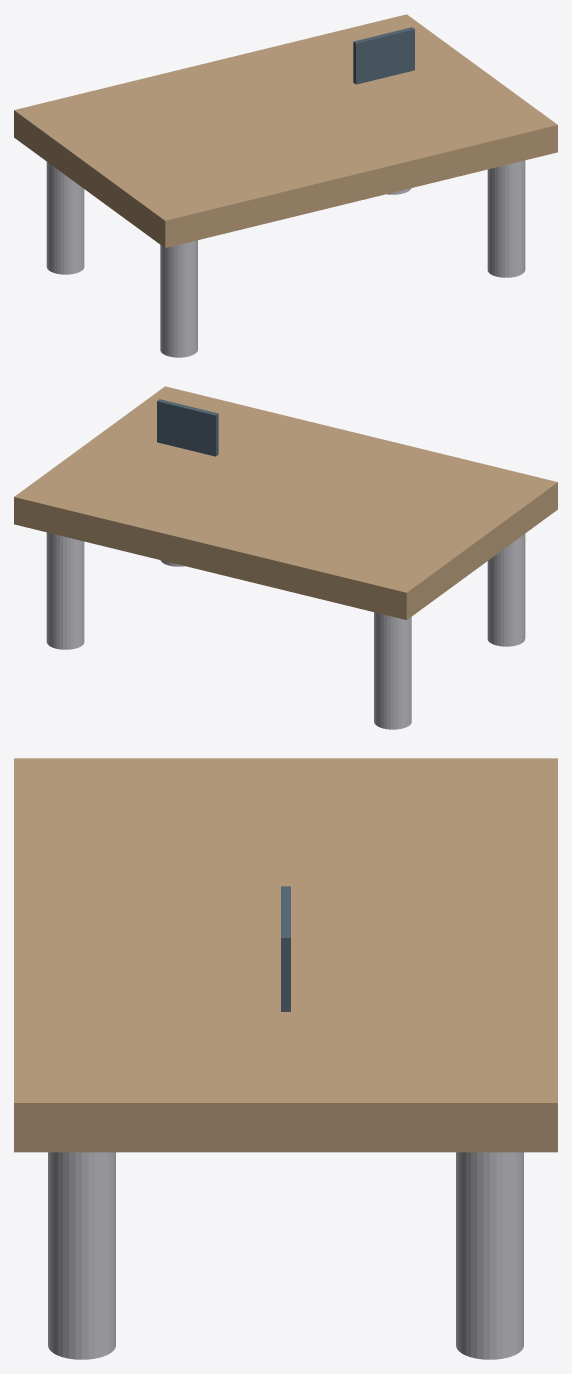
File: workbench.glb
3 views of the same model, one above another, from view 1: azimuth 30°, elevation 25°; view 2: azimuth 150°, elevation 25°; view 3: azimuth 270°, elevation 25° (orthographic). The views are drawn at different scales.
Parts seen in each view (by area): view 1: Cube, Cylinder.002, Cylinder, Cylinder.001, Cube.001; view 2: Cube, Cylinder.003, Cylinder.001, Cylinder, Cube.001; view 3: Cube, Cylinder.002, Cylinder.003, Cube.001.
Boxes of the visible parts, box(x1,y1,x2,y2) form: Cube: box(14, 14, 557, 247); Cylinder.002: box(487, 160, 525, 277); Cylinder: box(160, 240, 197, 357); Cylinder.001: box(46, 162, 84, 274); Cube.001: box(353, 27, 414, 84); Cube: box(14, 386, 557, 619); Cylinder.003: box(46, 532, 84, 649); Cylinder.001: box(374, 612, 411, 729); Cylinder: box(487, 534, 525, 646); Cube.001: box(157, 399, 218, 456); Cube: box(14, 758, 557, 1152); Cylinder.002: box(48, 1152, 115, 1359); Cylinder.003: box(456, 1152, 523, 1359); Cube.001: box(281, 886, 290, 1011).
Bounding box in the file's own units: 1.2 × 0.61 × 0.8.
